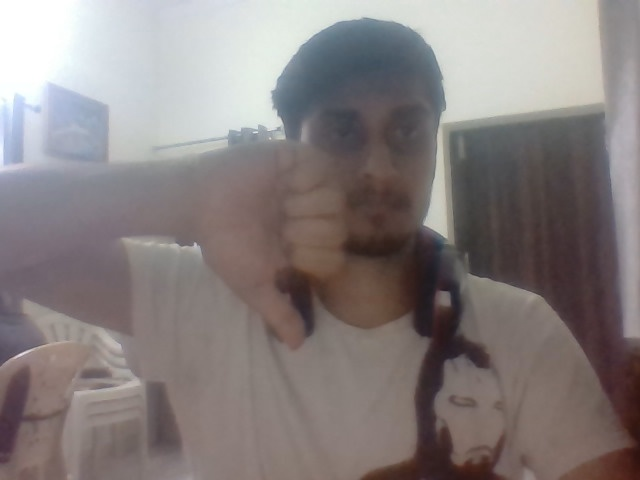ThumbsDown: (200, 140, 348, 350)
